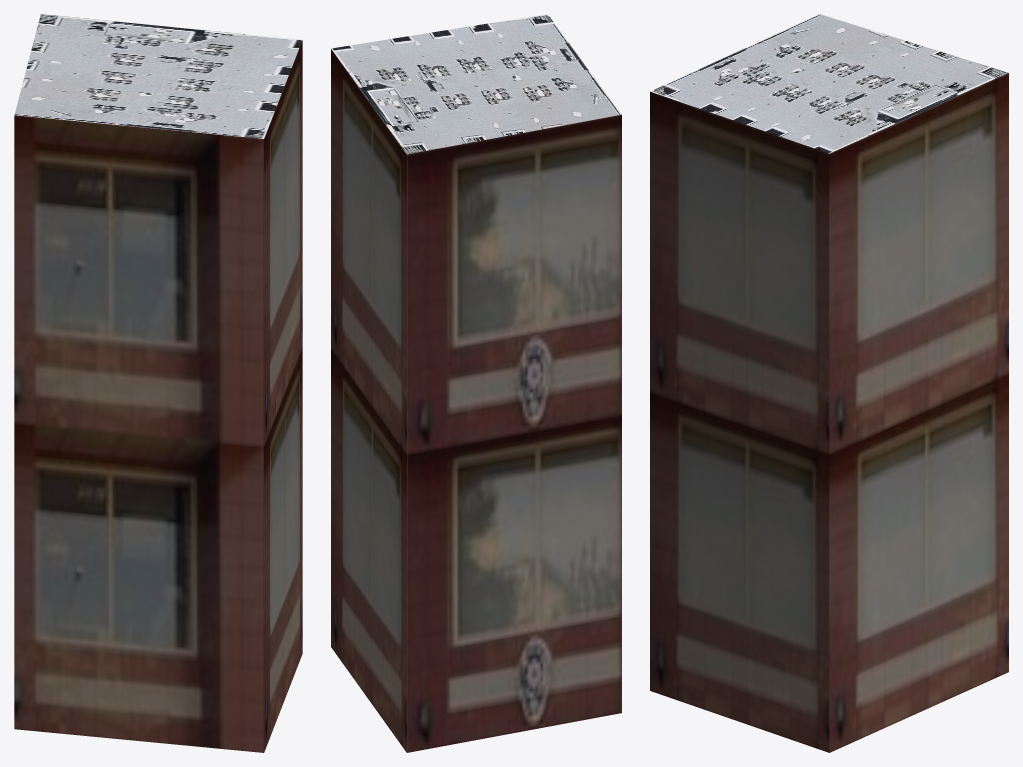
Rendered from ResTex__2993.fbx.
The picture shows the model from 3 angles, left to right: view 1: azimuth 30°, elevation 25°; view 2: azimuth 150°, elevation 25°; view 3: azimuth 270°, elevation 25°; orthographic projection. The views are drawn at different scales.
Visible parts, largest first — view 1: CityEngineMaterial_13_m, CityEngineMaterial_4_m; view 2: CityEngineMaterial_13_m, CityEngineMaterial_4_m; view 3: CityEngineMaterial_13_m, CityEngineMaterial_4_m.
Boxes of the visible parts, x1,y1,x2,y2 form: CityEngineMaterial_13_m: [14, 40, 302, 752]; CityEngineMaterial_4_m: [14, 14, 302, 138]; CityEngineMaterial_13_m: [331, 49, 621, 752]; CityEngineMaterial_4_m: [331, 14, 621, 154]; CityEngineMaterial_13_m: [650, 73, 1008, 752]; CityEngineMaterial_4_m: [650, 14, 1008, 153].
Bounding box in the file's own units: 3 × 6 × 3.26.
Materials: 2 (2 with a texture image).
